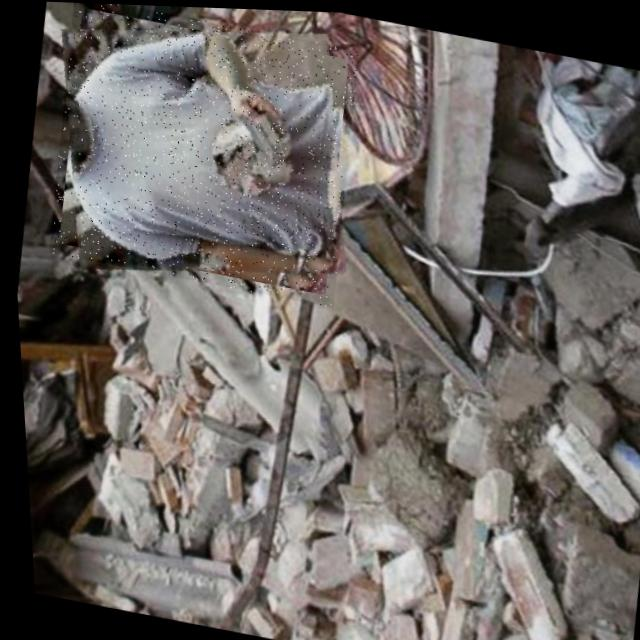Person in Rubble: (34, 1, 370, 305)
